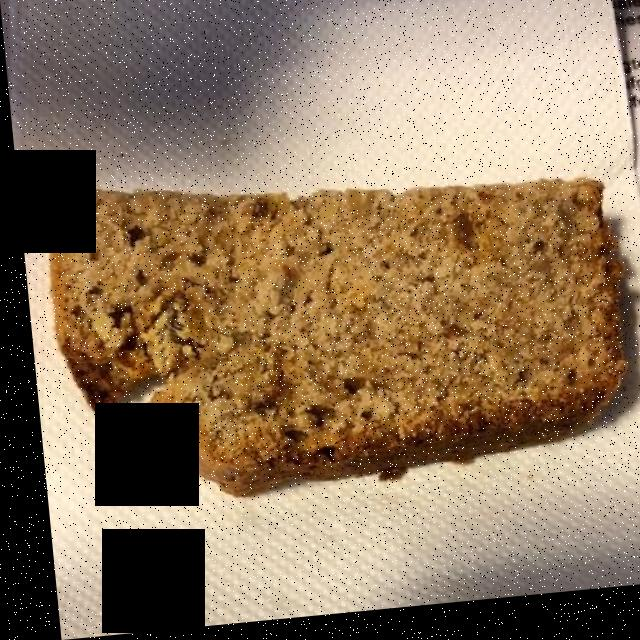tart: (60, 192, 615, 497)
